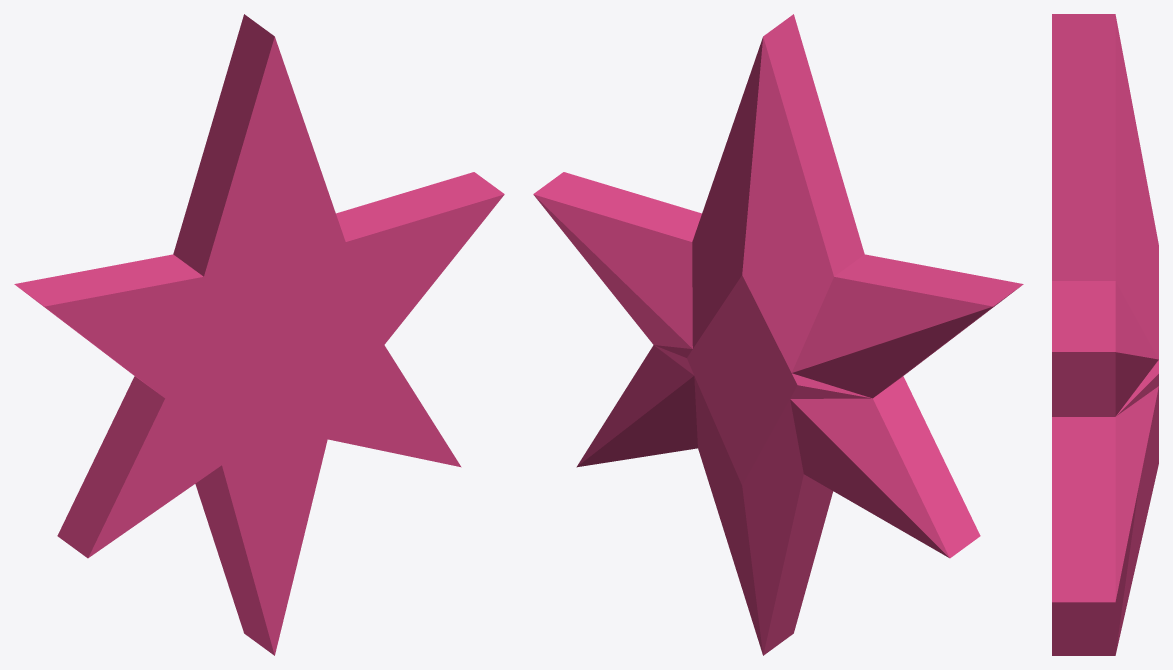
The model's file is Star.glb.
The picture shows the model from 3 angles, left to right: view 1: azimuth 30°, elevation 25°; view 2: azimuth 150°, elevation 25°; view 3: azimuth 270°, elevation 25°; orthographic projection. The views are drawn at different scales.
Parts seen in each view (by area): view 1: Magic_Magic_0; view 2: Magic_Magic_0; view 3: Magic_Magic_0.
Part boxes in pixels (left/top/right/bottom): Magic_Magic_0: left=14, top=14, right=504, bottom=655; Magic_Magic_0: left=533, top=14, right=1023, bottom=655; Magic_Magic_0: left=1052, top=14, right=1158, bottom=655.
Size of the model in its own units: 2.63 by 3.39 by 0.5114.
Materials: 1 (1 with a texture image).
